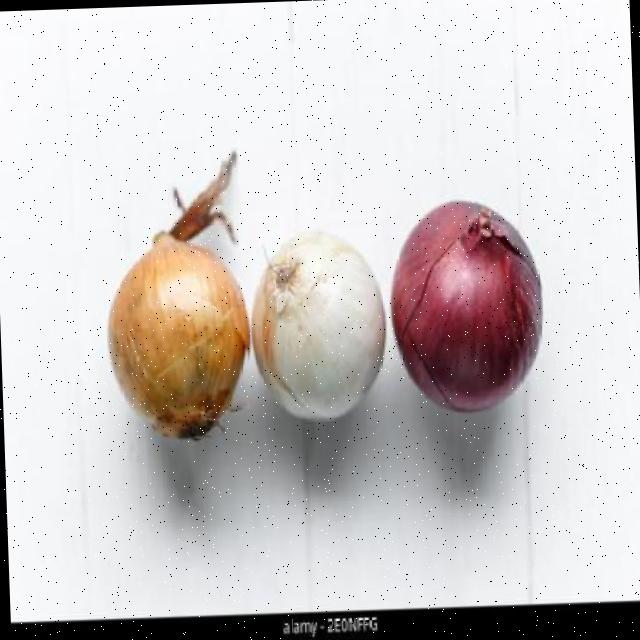Onion: (392, 202, 543, 411), (108, 232, 250, 439), (252, 233, 386, 421)
